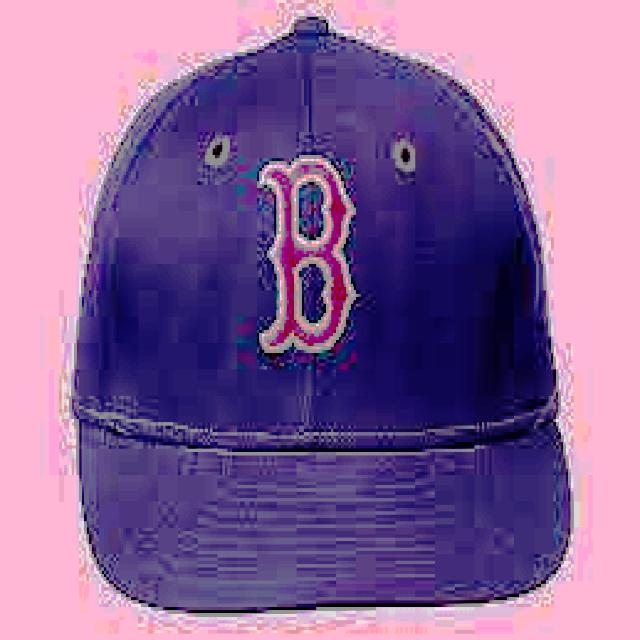TOPI: (69, 7, 578, 610)
